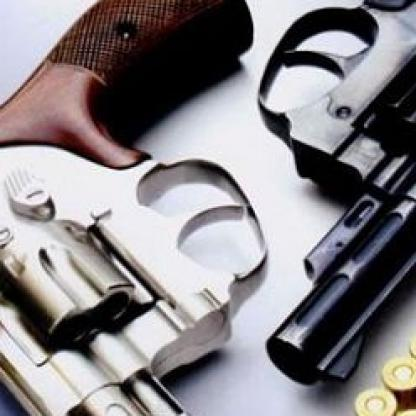gun: (0, 0, 266, 415), (258, 0, 414, 387)
